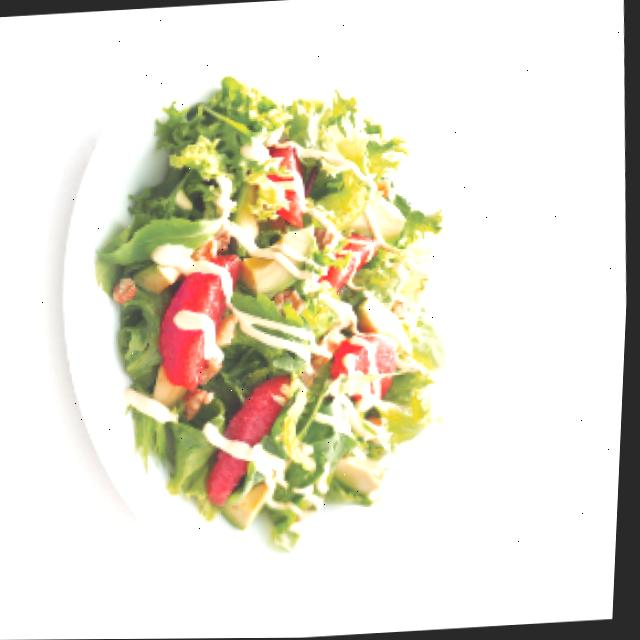蔬菜料理: (40, 21, 490, 595)
